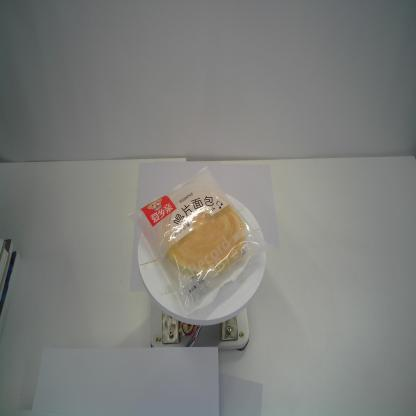Dessert: (127, 166, 268, 316)
